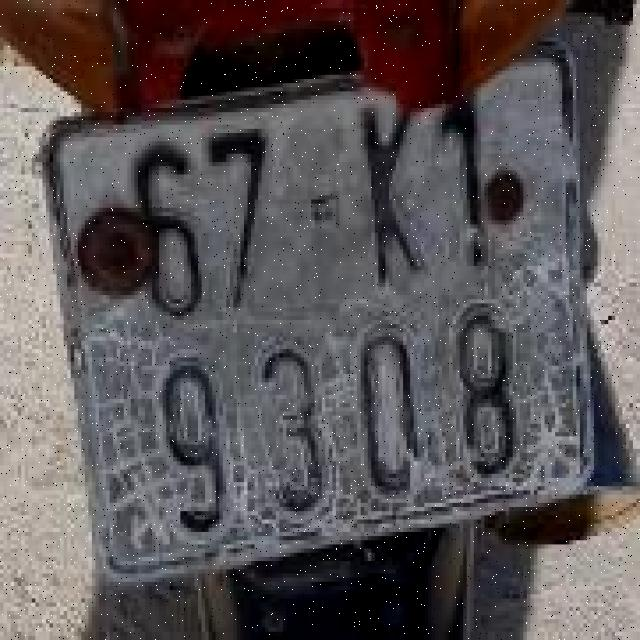0: (339, 305, 435, 505)
1: (428, 75, 502, 258)
3: (249, 327, 334, 518)
6: (118, 123, 207, 322)
7: (207, 118, 274, 310)
8: (449, 295, 530, 486)
9: (140, 343, 238, 546)
K: (352, 83, 433, 295)
